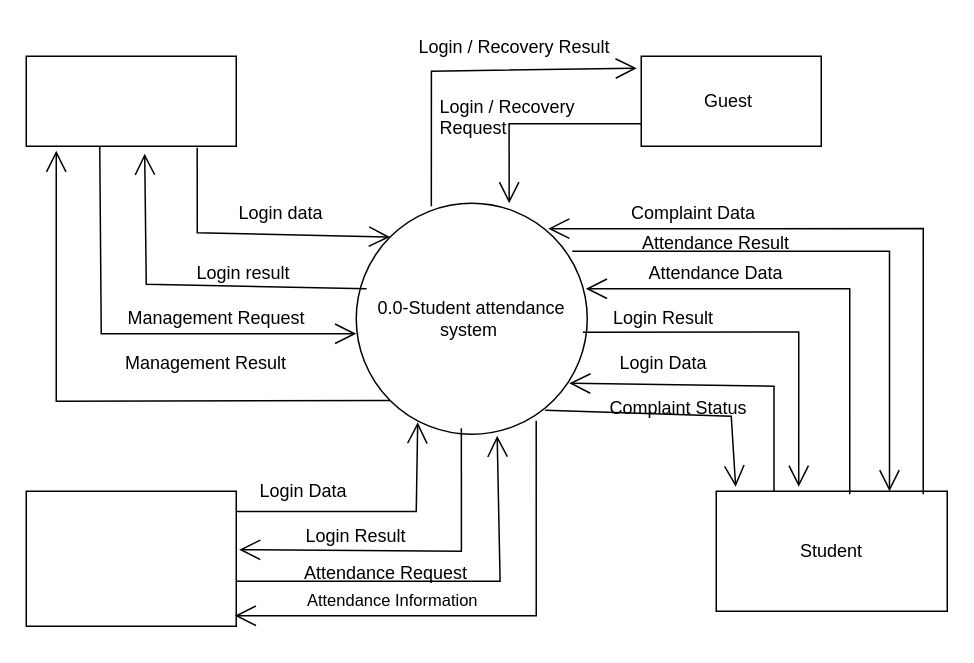
Image size: 974x663. Some labels were removed from this diagram. The box of each missing label's shape, as (x1, y1, x2, y2) in pixels:
Admin: (25, 55, 236, 146)
Lecturer: (25, 490, 236, 626)
